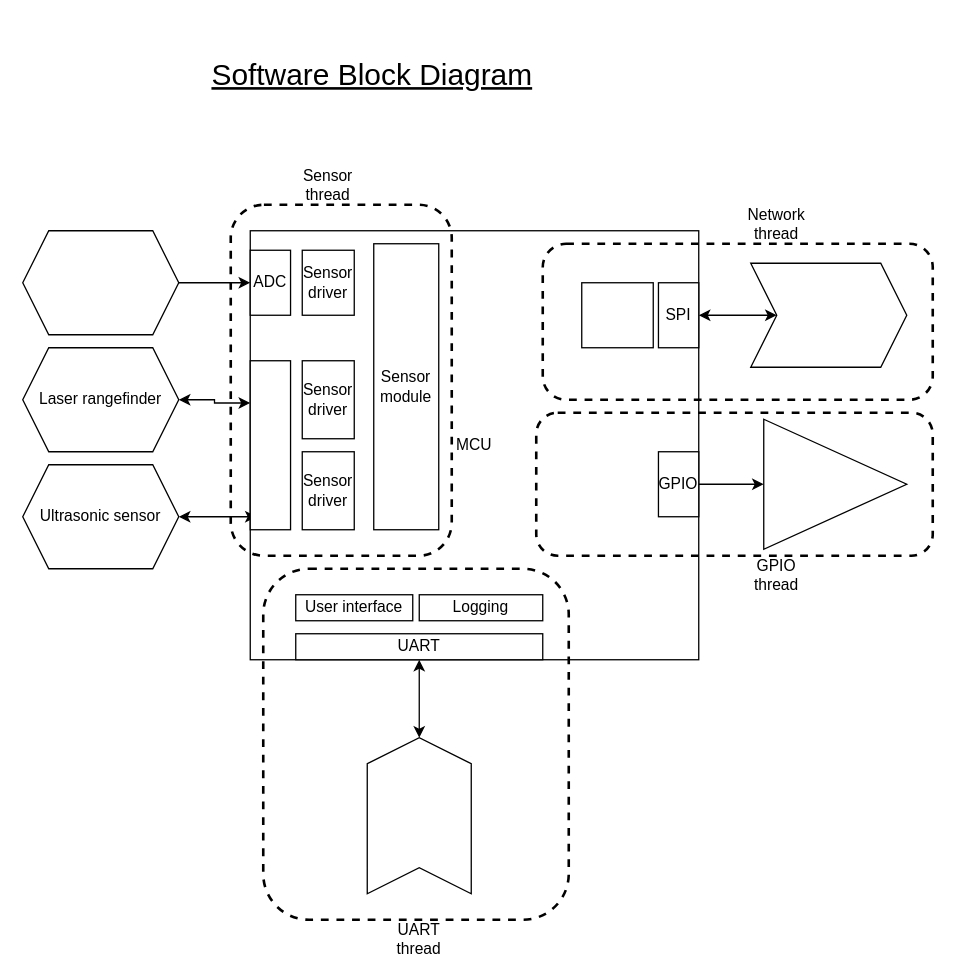
The diagram is 957 pixels wide and 980 high, and some of its shapes have lost their labels. The shapes that lost their labels are listed below. From the top down, each one's centre as x and y in pixels, then its label:
At point (100, 282): "Temperature sensor".
At point (616, 314): "Network interface".
At point (828, 314): "WiFi module".
At point (270, 444): "I2C".
At point (834, 483): "LED status indicator".
At point (418, 815): "Serial input".
